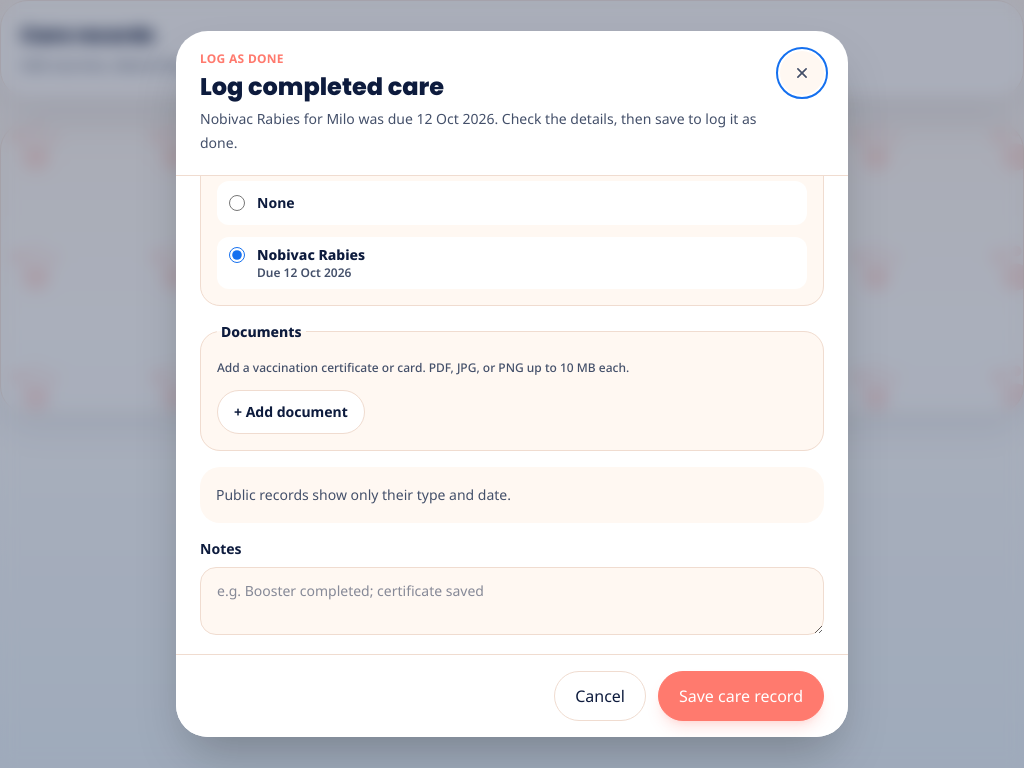
Test: A confirmed save › reports success only after the server confirms it
(page scrolled)
Type "Booster went well" into the text box labelled "Notes" at (512, 601), box x1=200 y1=567 x2=824 y2=635
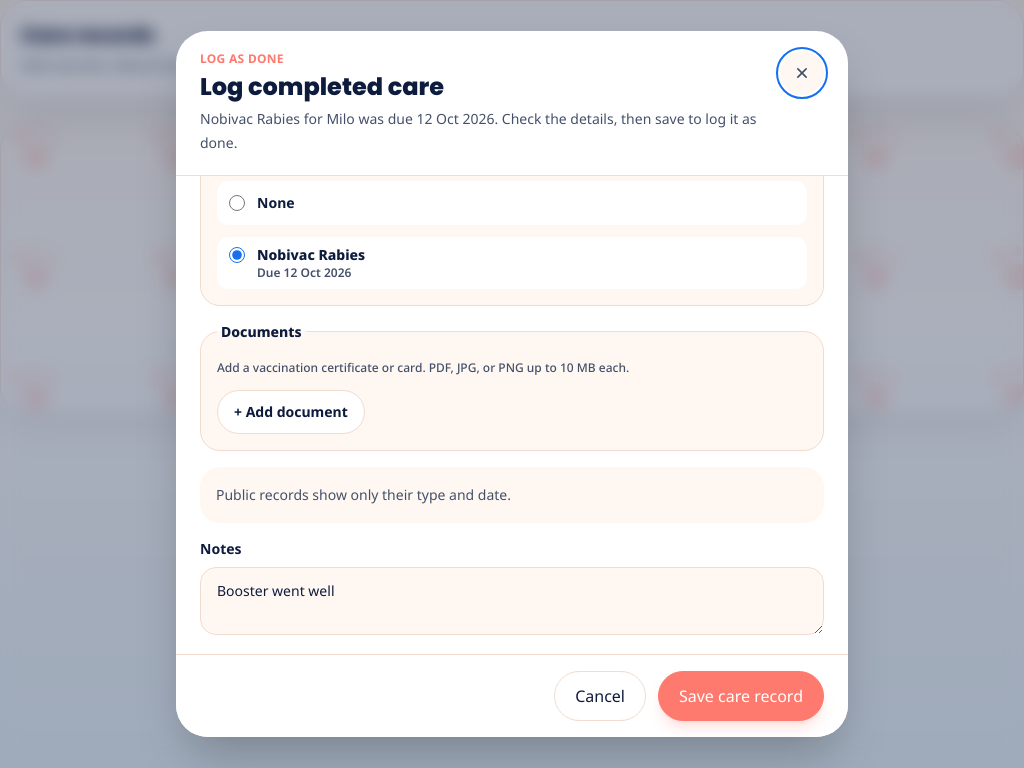
Click the button "Save care record" at (741, 696), box x1=658 y1=671 x2=824 y2=721
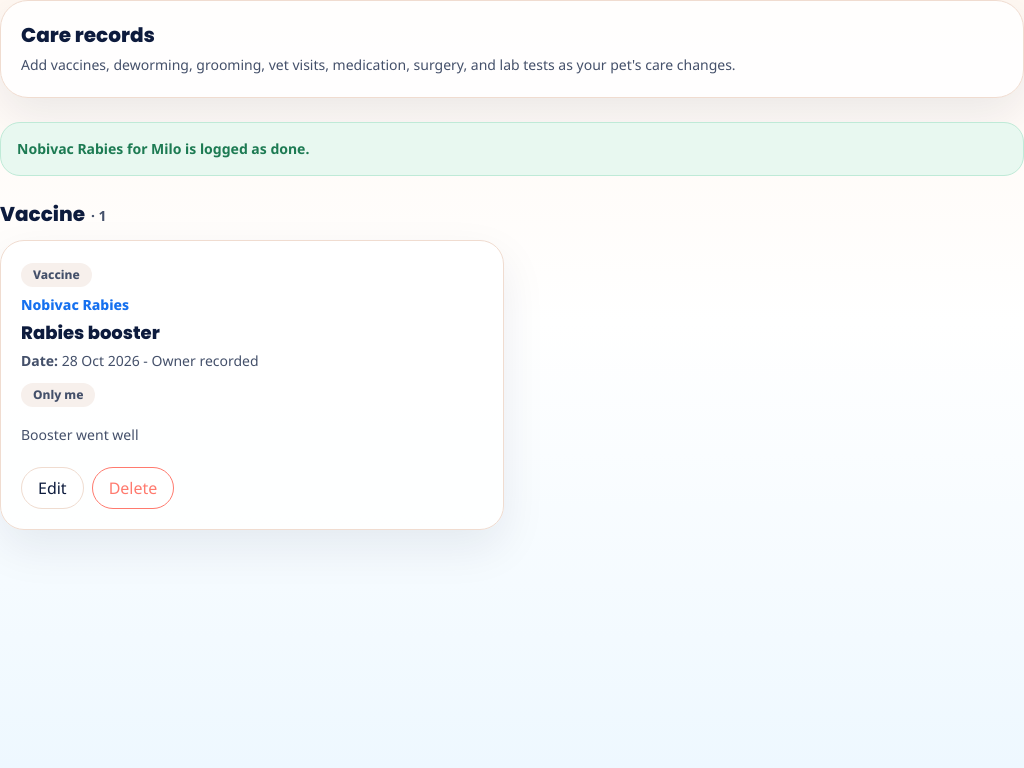
Check: the text "Nobivac Rabies for Milo is logged as done." is shown, box x1=0 y1=122 x2=1023 y2=176
